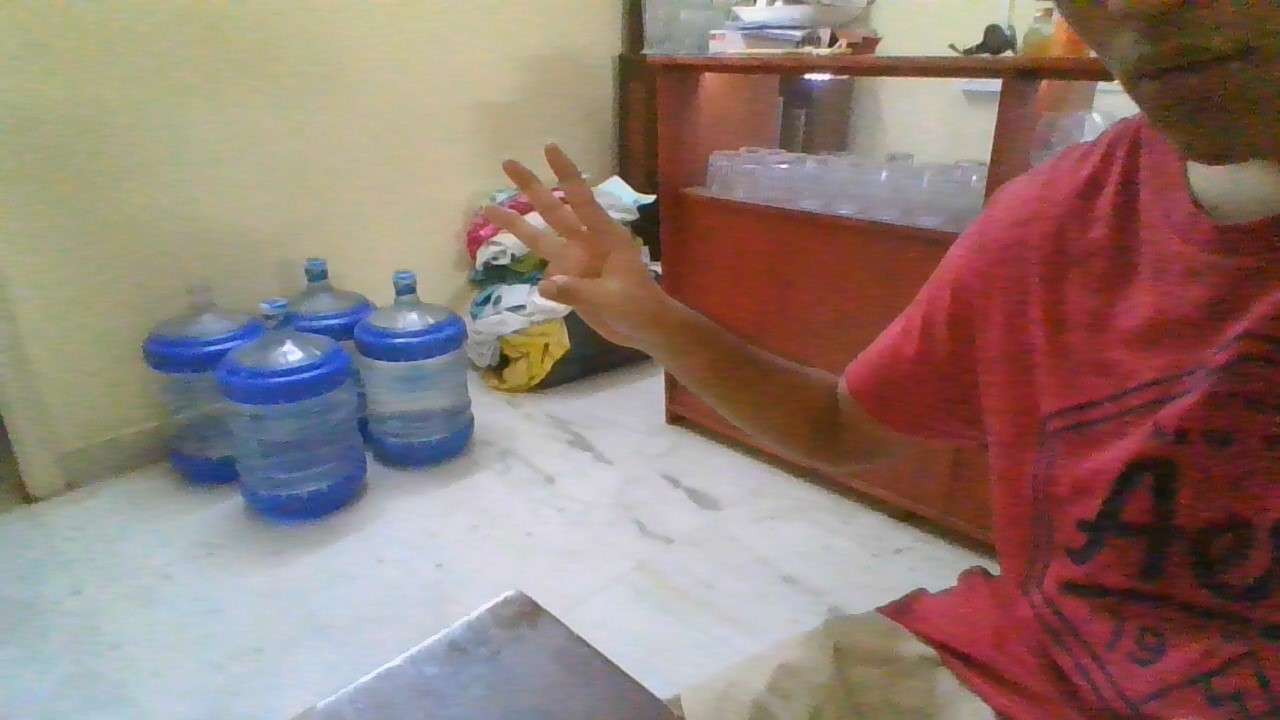w: (474, 139, 665, 355)
